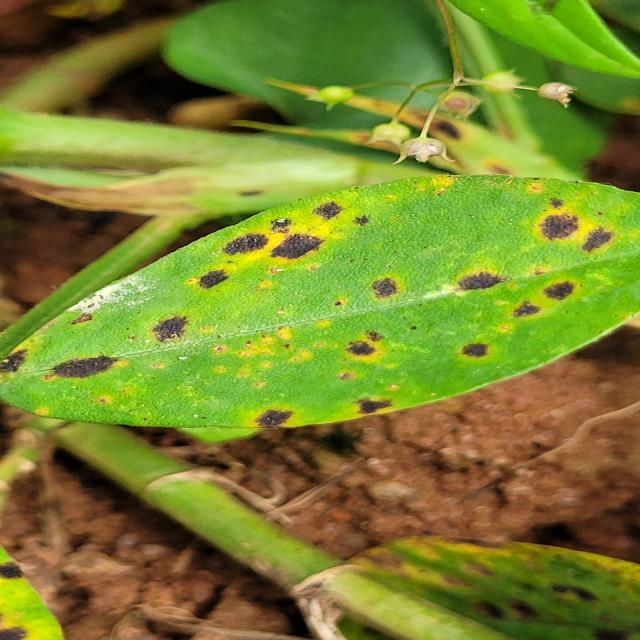Ground nut_tikka leaf spot: (0, 170, 640, 430)
